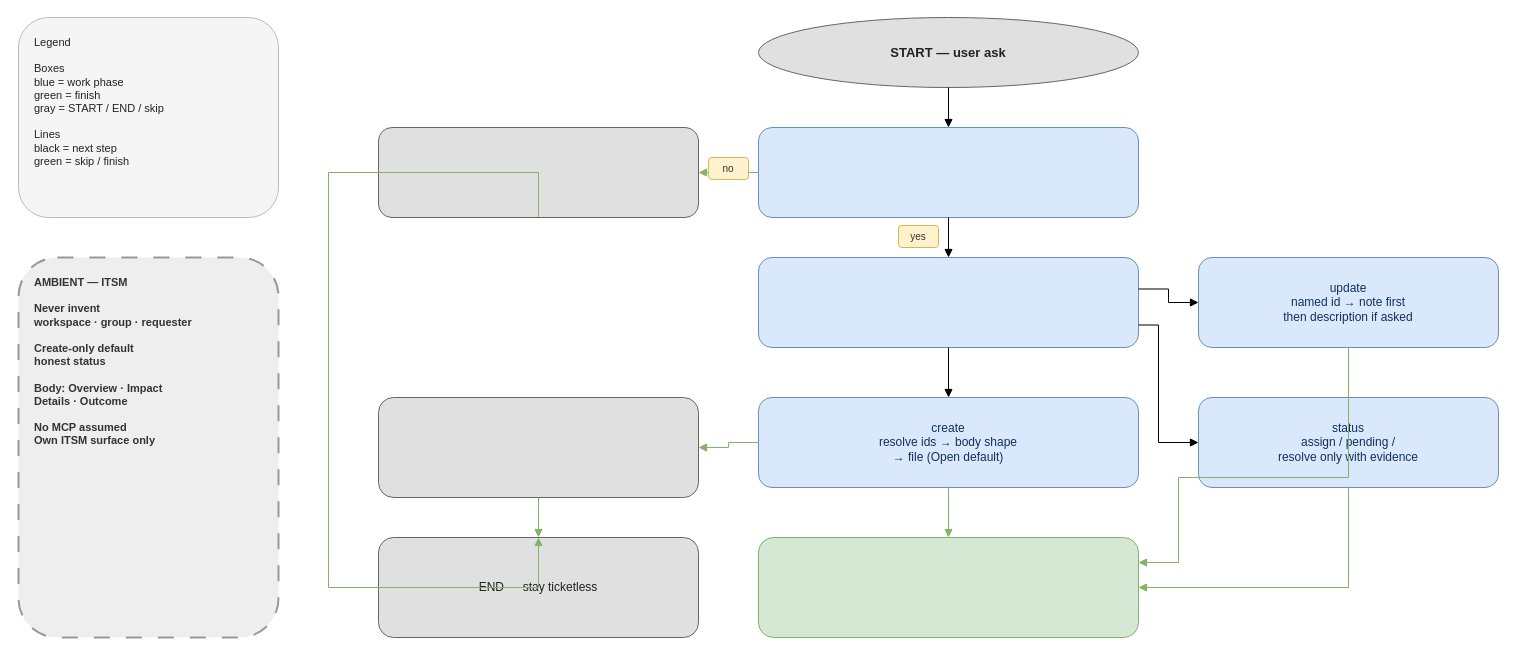
This 1516x656 diagram has some shape labels left out. The shapes that lost their labels are listed below. From the top down, each one's centre as x and y in pixels, then its label:
the point at 538,172: skip — ticketless ordinary coding; do not ask to file
the point at 948,172: gate · ITSM work? ticket / incident ask or named ticket id
the point at 948,302: route · create vs update vs status vs body-author
the point at 538,447: create-only STOP file and stop; no code unless 2nd verb
the point at 948,587: END — ticket id + evidence (no secrets)
